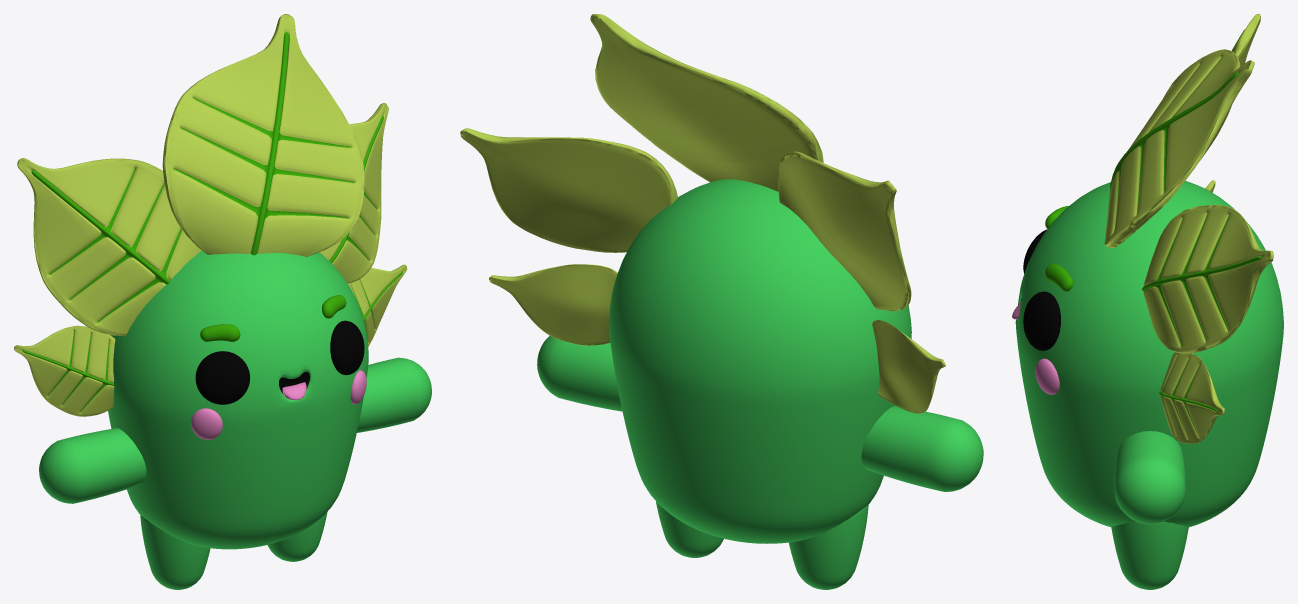
File: Leafu v2.fbx
The picture shows the model from 3 angles, left to right: view 1: azimuth 30°, elevation 25°; view 2: azimuth 150°, elevation 25°; view 3: azimuth 270°, elevation 25°; orthographic projection. The views are drawn at different scales.
Parts seen in each view (by area): view 1: Body; view 2: Body; view 3: Body.
Part boxes in pixels (left/top/right/bottom): Body: left=14, top=14, right=431, bottom=589; Body: left=460, top=14, right=983, bottom=589; Body: left=1012, top=14, right=1283, bottom=589.
Bounding box in the file's own units: 417 × 498 × 225.
